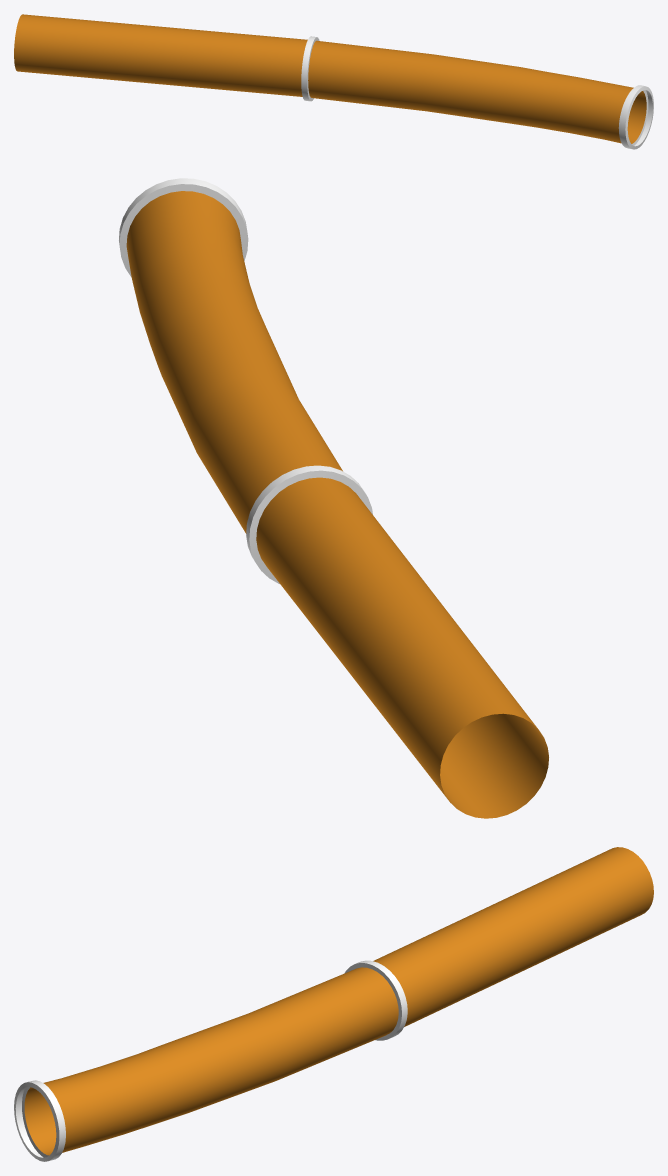
The model's file is SM_H_Building_Tide_Waterway_11d_ATLAS.fbx.
3 renders of one model, top to bottom at view 1: azimuth 30°, elevation 25°; view 2: azimuth 150°, elevation 25°; view 3: azimuth 270°, elevation 25°, orthographic. The views are drawn at different scales.
Visible parts, largest first — view 1: SM_H_Building_Tide_Waterway_11d_ATLAS; view 2: SM_H_Building_Tide_Waterway_11d_ATLAS; view 3: SM_H_Building_Tide_Waterway_11d_ATLAS.
Part boxes in pixels (bbox=[...]): SM_H_Building_Tide_Waterway_11d_ATLAS: bbox=[14, 14, 653, 149]; SM_H_Building_Tide_Waterway_11d_ATLAS: bbox=[119, 178, 548, 818]; SM_H_Building_Tide_Waterway_11d_ATLAS: bbox=[14, 847, 653, 1161].
Bounding box in the file's own units: 1060 × 1080 × 139.
